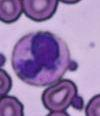N: (11, 30, 70, 86)
